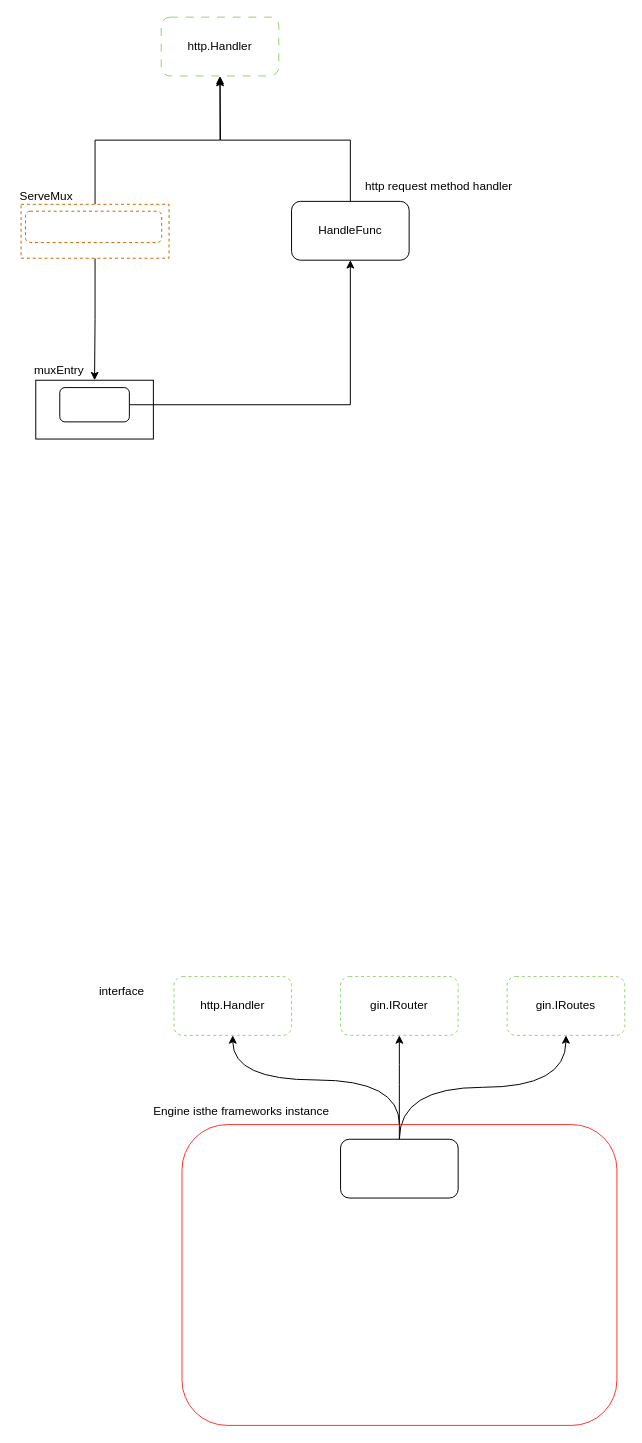
This 642x1443 diagram has some shape labels left out. The centre of each missing label's shape, as x and y in pixels:
"handler" belongs at pixel 94 404.
"m map[string]muxEntry" belongs at pixel 93 226.
"RouterGroup" belongs at pixel 399 1168.
